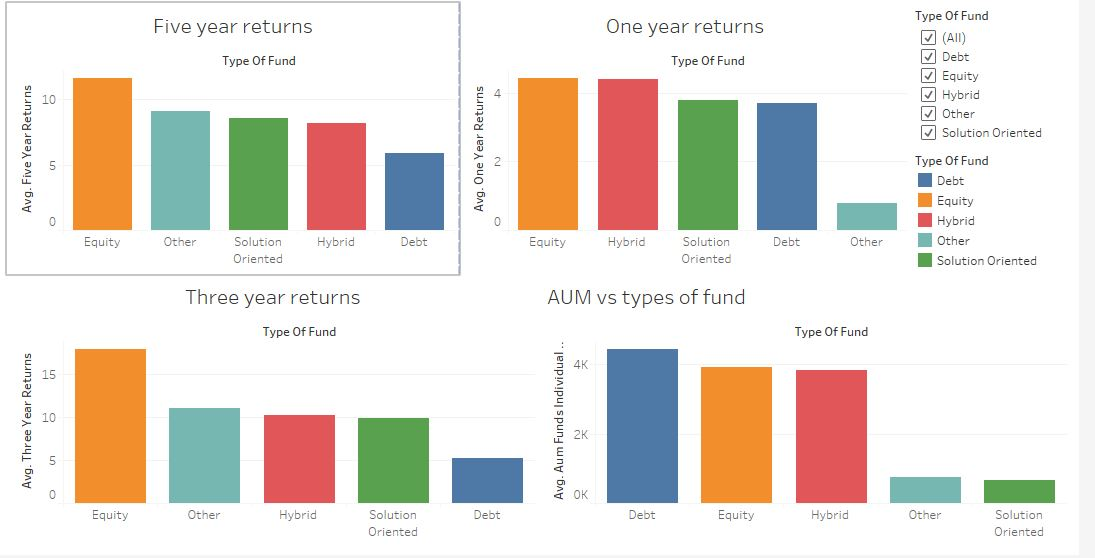

The dashboard page shown, as its layout file describes it:
{"tool":"tableau","page":{"name":"Dashboard 1","canvas":[1080,560],"ordinal":0},"visuals":[{"type":"worksheet","title":"Five year returns","mark":"Automatic","rows":["five_year_returns"],"cols":["type_of_fund"],"box":[8,8,452,270.7]},{"type":"worksheet","title":"One year returns","mark":"Automatic","rows":["one_year_returns"],"cols":["type_of_fund"],"box":[460,8,452,270.7]},{"type":"filter","title":"One year returns","param":"[federated.02eqkjj1cgdai417x5tan1v6ozu0].[none:type_of_fund:nk]","box":[912,8,160,82]},{"type":"legend","title":"Three year returns","param":"[federated.02eqkjj1cgdai417x5tan1v6ozu0].[none:type_of_fund:nk]","box":[912,90,160,22]},{"type":"worksheet","title":"Three year returns","mark":"Automatic","rows":["three_year_returns"],"cols":["type_of_fund"],"box":[8,278.7,532,273.3]},{"type":"worksheet","title":"AUM vs types of fund","mark":"Automatic","rows":["aum_funds_individual_lst"],"cols":["type_of_fund"],"box":[540,278.7,532,273.3]}]}

Visuals, with their boxes in screenshot pixels (x1, y1, x2, y2), scaled from the page's 1080x560 canvas onto the 1095x558 screenshot:
"Five year returns" worksheet: BBox(8, 8, 466, 278)
"One year returns" worksheet: BBox(466, 8, 925, 278)
"One year returns" filter: BBox(925, 8, 1087, 90)
"Three year returns" legend: BBox(925, 90, 1087, 112)
"Three year returns" worksheet: BBox(8, 278, 548, 550)
"AUM vs types of fund" worksheet: BBox(548, 278, 1087, 550)
